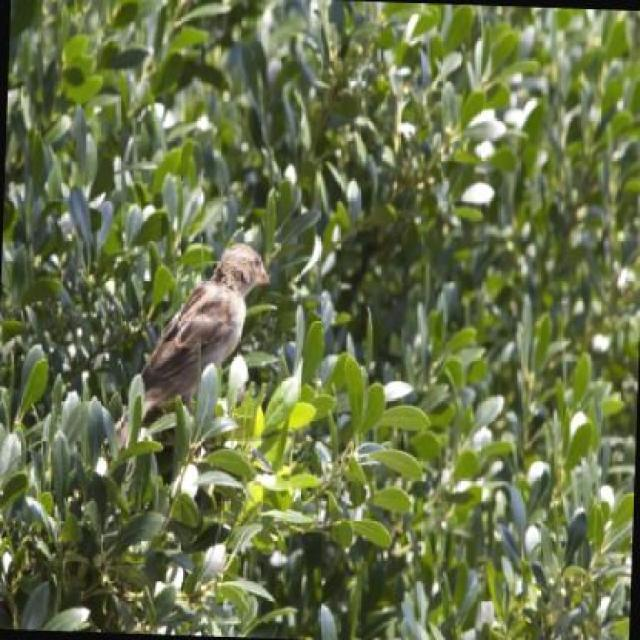Bird: (128, 234, 261, 430)
